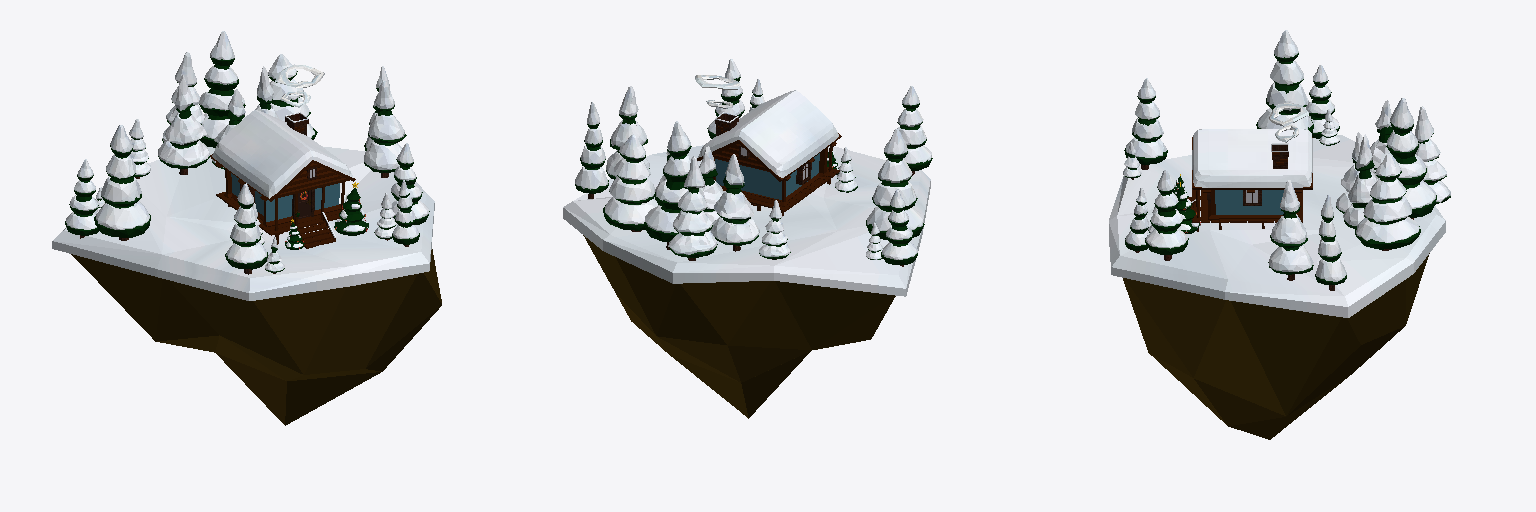
3 renders of one model, left to right at view 1: azimuth 30°, elevation 25°; view 2: azimuth 150°, elevation 25°; view 3: azimuth 270°, elevation 25°, orthographic.
Visible parts, largest first — view 1: island_Icosphere.001, tree_Cylinder.036, House_Cylinder.057, decor_tree_Cylinder.054, Torus; view 2: island_Icosphere.001, tree_Cylinder.036, House_Cylinder.057, Torus; view 3: island_Icosphere.001, tree_Cylinder.036, House_Cylinder.057, decor_tree_Cylinder.054, Torus.
Part boxes in pixels (x1,y1,x2,y2): island_Icosphere.001: (52, 146, 441, 425); tree_Cylinder.036: (65, 31, 429, 274); House_Cylinder.057: (210, 110, 355, 248); decor_tree_Cylinder.054: (285, 182, 368, 249); Torus: (275, 64, 324, 107); island_Icosphere.001: (563, 145, 930, 418); tree_Cylinder.036: (575, 59, 932, 266); House_Cylinder.057: (697, 90, 841, 215); Torus: (695, 75, 739, 108); island_Icosphere.001: (1109, 135, 1445, 439); tree_Cylinder.036: (1123, 30, 1450, 290); House_Cylinder.057: (1187, 129, 1312, 231); decor_tree_Cylinder.054: (1173, 174, 1200, 233); Torus: (1269, 102, 1308, 142).
Bounding box in the file's own units: 2.03 × 1.96 × 1.77.
Materials: 20 (7 with a texture image).